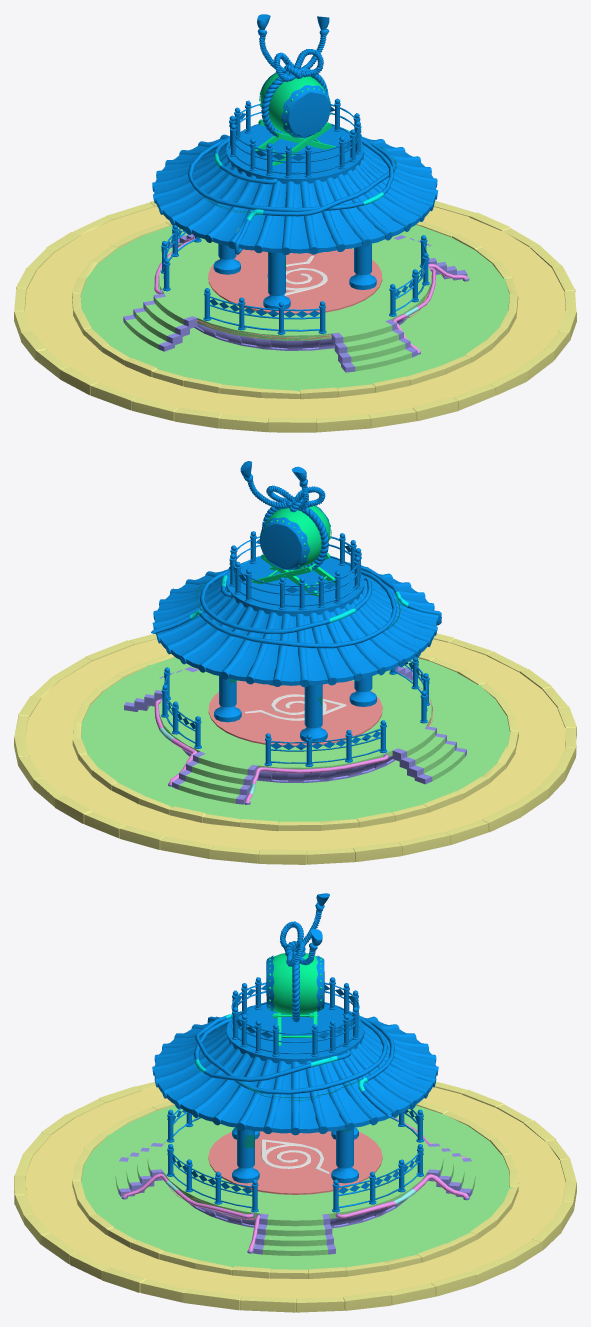
The model's file is SM_ENV_LKNVLD_Event_HL_WoodenStage_A_Lod2.gltf.
The picture shows the model from 3 angles, top to bottom: view 1: azimuth 30°, elevation 25°; view 2: azimuth 150°, elevation 25°; view 3: azimuth 270°, elevation 25°; orthographic projection.
Parts seen in each view (by area): view 1: SM_ENV_LKNVLD_Event_HL_WoodenStage_A_Lod2; view 2: SM_ENV_LKNVLD_Event_HL_WoodenStage_A_Lod2; view 3: SM_ENV_LKNVLD_Event_HL_WoodenStage_A_Lod2.
Part boxes in pixels (x1=…): SM_ENV_LKNVLD_Event_HL_WoodenStage_A_Lod2: x1=14, y1=14, x2=576, y2=432; SM_ENV_LKNVLD_Event_HL_WoodenStage_A_Lod2: x1=14, y1=461, x2=576, y2=864; SM_ENV_LKNVLD_Event_HL_WoodenStage_A_Lod2: x1=14, y1=893, x2=576, y2=1312.
Size of the model in its own units: 19.17 by 10.94 by 19.18.
